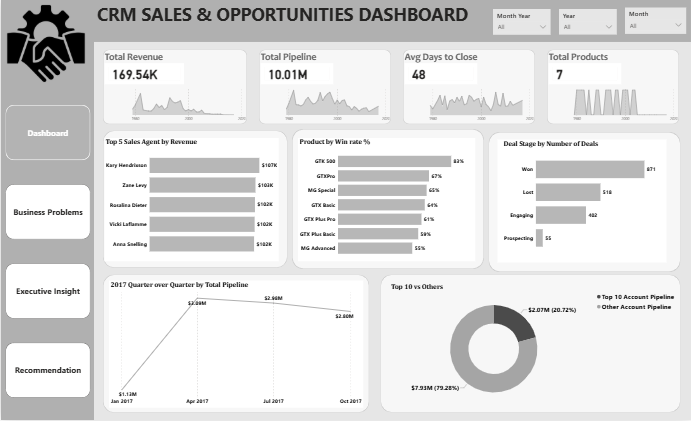

The page's visual inventory and layout, read from the dashboard file:
{"tool":"powerbi","page":{"name":"Dashboard","canvas":[2300,1400],"ordinal":0},"visuals":[{"type":"shape","box":[0,0,310,1400],"z":0},{"type":"slicer","fields":{"Values":["Date Table.Year"]},"box":[1860.5,31.2,192.5,85],"z":0,"group":"g1"},{"type":"shape","box":[310.2,0,1989.8,139.8],"z":1000},{"type":"slicer","fields":{"Values":["Date Table.Month"]},"box":[2076,26.6,203.7,88.3],"z":1000,"group":"g1"},{"type":"slicer","fields":{"Values":["Date Table.Month Year"]},"box":[1638,30,192,86],"z":2000,"group":"g1"},{"type":"shape","box":[1820,165.5,440,249.5],"z":2000},{"type":"shape","box":[1340,165.5,440,249.5],"z":3000},{"type":"shape","box":[860,165.5,440,249.5],"z":4000},{"type":"shape","box":[340,165.5,480,249.5],"z":5000},{"type":"textbox","box":[316.3,0,1313.3,100],"z":6000},{"type":"group","id":"g1","title":"Group 1","box":[1638,26.6,641.8,89.6],"z":7000},{"type":"cardVisual","fields":{"Data":["products.Total Products"]},"box":[1820,206.1,252.2,81.2],"z":8000},{"type":"cardVisual","fields":{"Data":["sales_pipeline.Avg Days to Close"]},"box":[1340,206.1,252.2,81.2],"z":9000},{"type":"cardVisual","fields":{"Data":["sales_pipeline.Total Pipeline"]},"box":[860,206.1,252.2,81.2],"z":10000},{"type":"cardVisual","fields":{"Data":["accounts.Total Revenue"]},"box":[340,206.1,275.1,81.2],"z":11000},{"type":"textbox","box":[1820,165,371.2,77.9],"z":12000},{"type":"textbox","box":[1340,165,371.2,77.9],"z":13000},{"type":"textbox","box":[860,165,371.2,77.9],"z":14000},{"type":"textbox","box":[340,165,404.9,77.9],"z":15000},{"type":"areaChart","fields":{"Category":["accounts.year_established"],"Y":["products.Total Products"]},"box":[1820,287.3,440,127.7],"z":16000},{"type":"areaChart","fields":{"Category":["accounts.year_established"],"Y":["sales_pipeline.Avg Days to Close"]},"box":[1340,287.3,440,127.7],"z":17000},{"type":"shape","box":[340.2,436.1,615.5,457.7],"z":18000},{"type":"areaChart","fields":{"Category":["accounts.year_established"],"Y":["sales_pipeline.Total Pipeline"]},"box":[860,287.3,440,127.7],"z":19000},{"type":"areaChart","fields":{"Category":["accounts.year_established"],"Y":["accounts.Total Revenue"]},"box":[340,287.3,480,127.7],"z":20000},{"type":"clusteredBarChart","title":"Top 5 Sales Agent by Revenue","fields":{"Y":["accounts.Total Revenue"],"Category":["sales_teams.sales_agent"]},"box":[343,458.4,580.7,410.9],"z":21000},{"type":"shape","box":[340.2,915.5,887.6,460.8],"z":22000},{"type":"lineChart","title":"2017 Quarter over Quarter by Total Pipeline","fields":{"Category":["Date Table.Date.Variation.Date Hierarchy.Year","Date Table.Date.Variation.Date Hierarchy.Quarter"],"Y":["sales_pipeline.Total Pipeline"]},"box":[361.9,934,847.4,423.7],"z":23000},{"type":"shape","box":[969.2,431.9,640,466.7],"z":24000},{"type":"clusteredBarChart","title":"Product by Win rate %","fields":{"Y":["sales_pipeline.Win Rate"],"Category":["sales_pipeline.product"]},"box":[991.5,458.4,590.9,410.9],"z":25000},{"type":"shape","box":[1263.3,916.7,1000,460],"z":26000},{"type":"donutChart","title":"Top 10 vs Others","fields":{"Y":["sales_pipeline.Top 10 Account Pipeline","sales_pipeline.Other Account Pipeline"]},"box":[1296.7,933.3,963.3,423.3],"z":27000},{"type":"shape","box":[1623,437.6,640,466.7],"z":28000},{"type":"clusteredBarChart","title":"Deal Stage by Number of Deals","fields":{"Category":["sales_pipeline.deal_stage"],"Y":["sales_pipeline.No. of Deal"]},"box":[1656.3,464.3,563.3,410],"z":29000},{"type":"pageNavigator","box":[16.7,350,283.3,976.7],"z":31000},{"type":"image","box":[16.7,0,270,290],"z":32000}]}

Visuals, with their boxes in screenshot pixels (x1, y1, x2, y2), scaled from the page's 2300x1400 canvas onto the 691x421 screenshot:
shape: l=0, t=0, r=93, b=420
slicer - Date Table.Year: l=559, t=9, r=617, b=35
shape: l=93, t=0, r=690, b=42
slicer - Date Table.Month: l=624, t=8, r=685, b=35
slicer - Date Table.Month Year: l=492, t=9, r=550, b=35
shape: l=547, t=50, r=679, b=125
shape: l=403, t=50, r=535, b=125
shape: l=258, t=50, r=391, b=125
shape: l=102, t=50, r=246, b=125
textbox: l=95, t=0, r=490, b=30
"Group 1" group: l=492, t=8, r=685, b=35
cardVisual - products.Total Products: l=547, t=62, r=623, b=86
cardVisual - sales_pipeline.Avg Days to Close: l=403, t=62, r=478, b=86
cardVisual - sales_pipeline.Total Pipeline: l=258, t=62, r=334, b=86
cardVisual - accounts.Total Revenue: l=102, t=62, r=185, b=86
textbox: l=547, t=50, r=658, b=73
textbox: l=403, t=50, r=514, b=73
textbox: l=258, t=50, r=370, b=73
textbox: l=102, t=50, r=224, b=73
areaChart - accounts.year_established x products.Total Products: l=547, t=86, r=679, b=125
areaChart - accounts.year_established x sales_pipeline.Avg Days to Close: l=403, t=86, r=535, b=125
shape: l=102, t=131, r=287, b=269
areaChart - accounts.year_established x sales_pipeline.Total Pipeline: l=258, t=86, r=391, b=125
areaChart - accounts.year_established x accounts.Total Revenue: l=102, t=86, r=246, b=125
"Top 5 Sales Agent by Revenue" clusteredBarChart: l=103, t=138, r=278, b=261
shape: l=102, t=275, r=369, b=414
"2017 Quarter over Quarter by Total Pipeline" lineChart: l=109, t=281, r=363, b=408
shape: l=291, t=130, r=483, b=270
"Product by Win rate %" clusteredBarChart: l=298, t=138, r=475, b=261
shape: l=380, t=276, r=680, b=414
"Top 10 vs Others" donutChart: l=390, t=281, r=679, b=408
shape: l=488, t=132, r=680, b=272
"Deal Stage by Number of Deals" clusteredBarChart: l=498, t=140, r=667, b=263
pageNavigator: l=5, t=105, r=90, b=399
image: l=5, t=0, r=86, b=87
